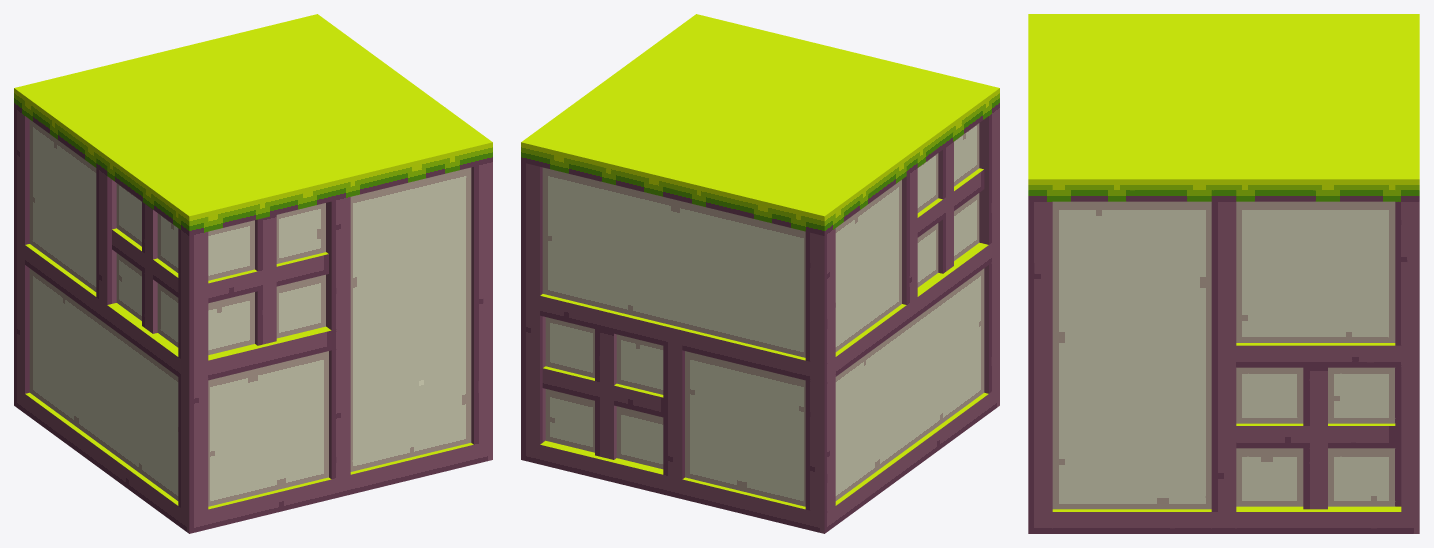
File: windmill_core_bao.fezao.glb
3 renders of one model, left to right at view 1: azimuth 30°, elevation 25°; view 2: azimuth 150°, elevation 25°; view 3: azimuth 270°, elevation 25°, orthographic. The views are drawn at different scales.
Parts seen in each view (by area): view 1: WINDMILL_CORE_BAO; view 2: WINDMILL_CORE_BAO; view 3: WINDMILL_CORE_BAO.
Part boxes in pixels (<box>): WINDMILL_CORE_BAO: <box>14,14,492,533</box>; WINDMILL_CORE_BAO: <box>521,14,999,533</box>; WINDMILL_CORE_BAO: <box>1028,14,1419,533</box>.
Size of the model in its own units: 4 by 4 by 4.
Materials: 1 (1 with a texture image).
